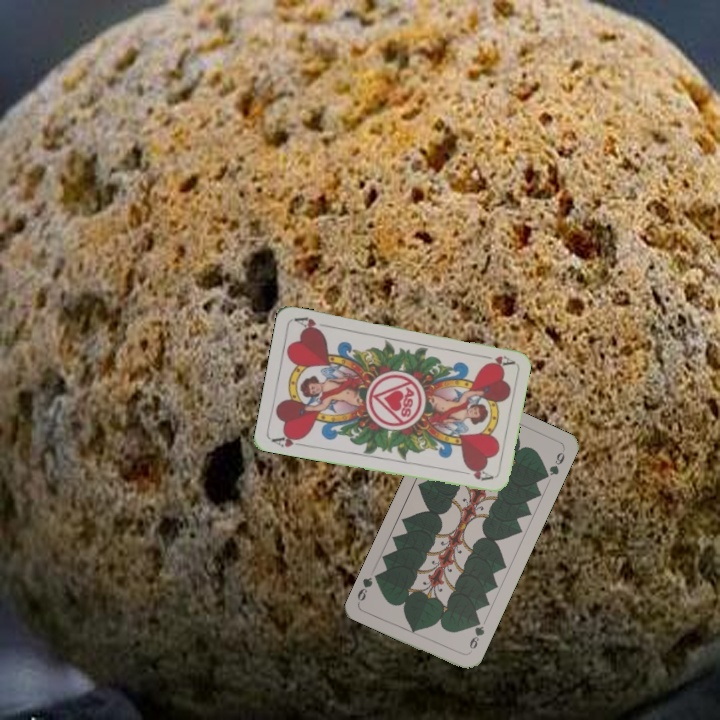G9: (464, 615, 487, 656)
HA: (268, 430, 308, 450), (476, 350, 516, 368)
